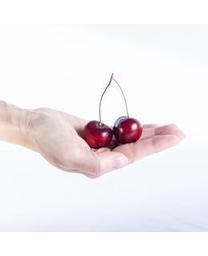cherry: (113, 116, 143, 145), (83, 120, 112, 149)
